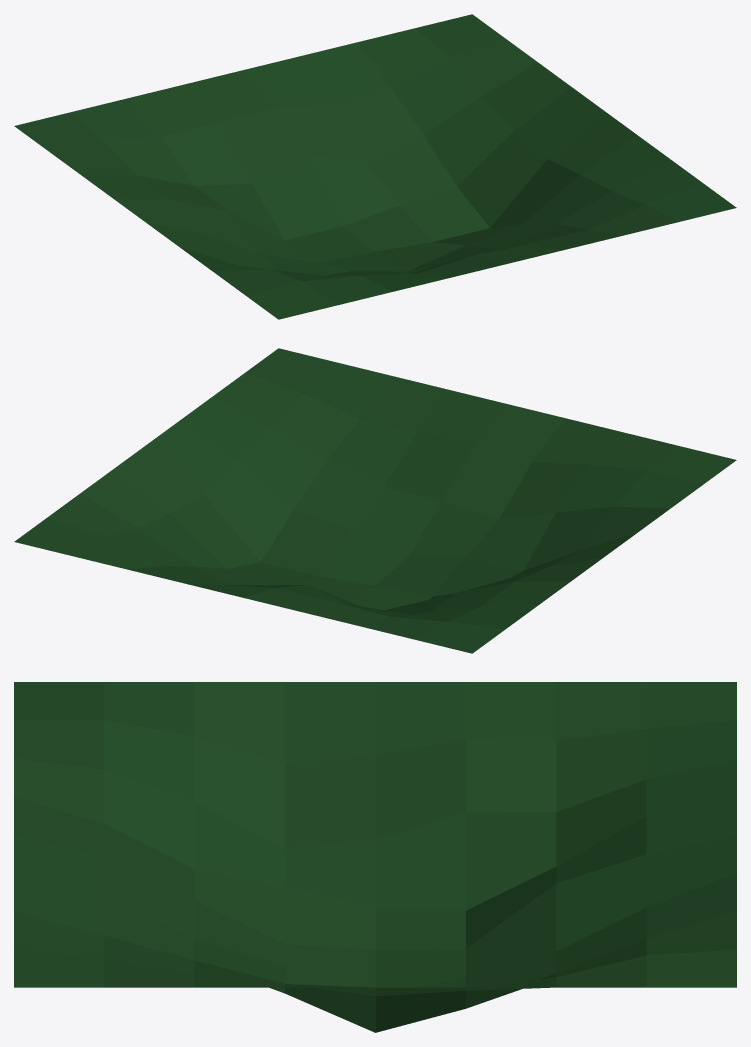
File: Terrain_17_Dark_Green.fbx
3 renders of one model, top to bottom at view 1: azimuth 30°, elevation 25°; view 2: azimuth 150°, elevation 25°; view 3: azimuth 270°, elevation 25°, orthographic. The views are drawn at different scales.
Parts seen in each view (by area): view 1: Terrain_17_Dark_Green; view 2: Terrain_17_Dark_Green; view 3: Terrain_17_Dark_Green.
Part boxes in pixels (left/top/right/bottom): Terrain_17_Dark_Green: left=14, top=14, right=736, bottom=319; Terrain_17_Dark_Green: left=14, top=348, right=736, bottom=653; Terrain_17_Dark_Green: left=14, top=682, right=736, bottom=1032.
Bounding box in the file's own units: 7000 × 1300 × 7000.
